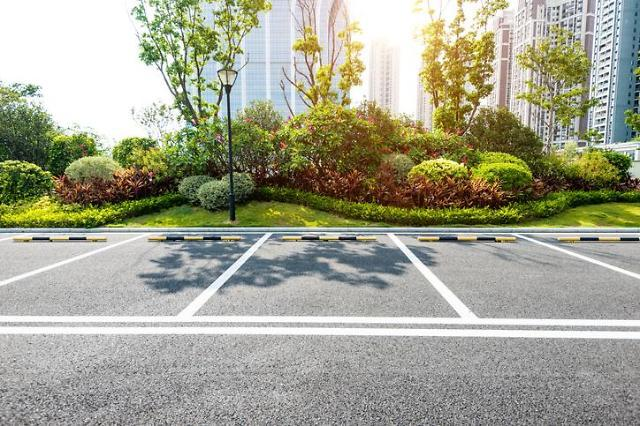empty: (183, 234, 477, 321), (0, 233, 269, 320), (394, 232, 640, 322)
